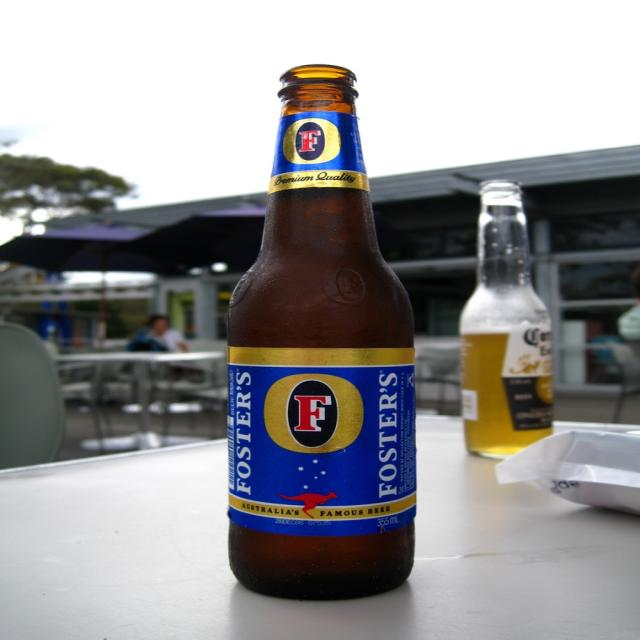fosters: (261, 372, 367, 457), (282, 118, 342, 167)
